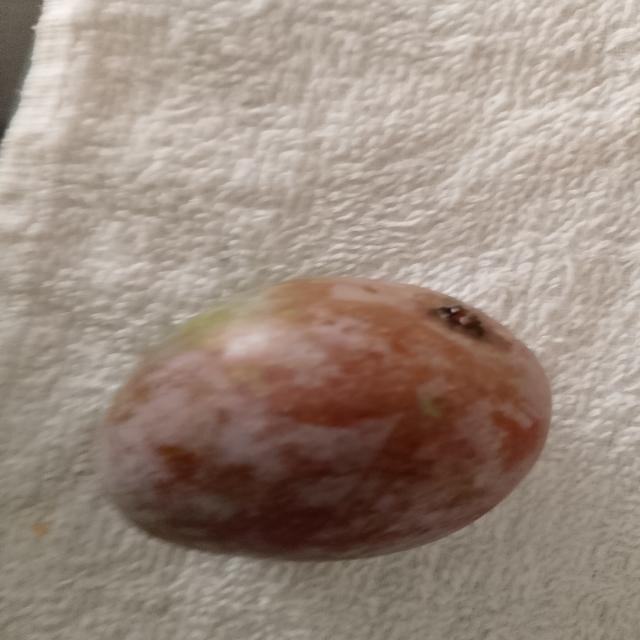mango: (88, 264, 561, 565)
